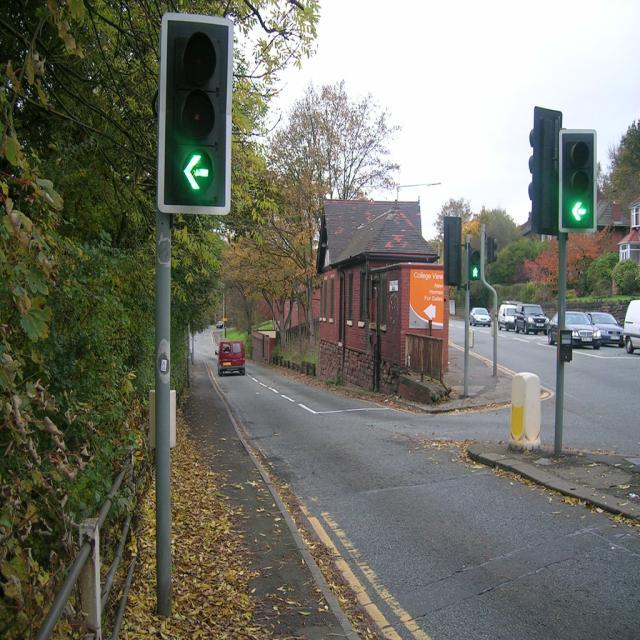off traffic light: (529, 108, 558, 232)
traffic light: (161, 13, 229, 212), (561, 133, 597, 235)
